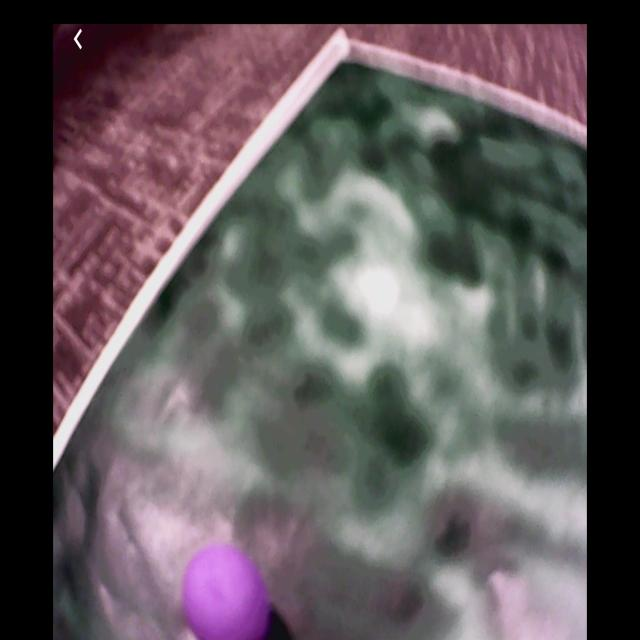ball: (184, 546, 266, 640)
